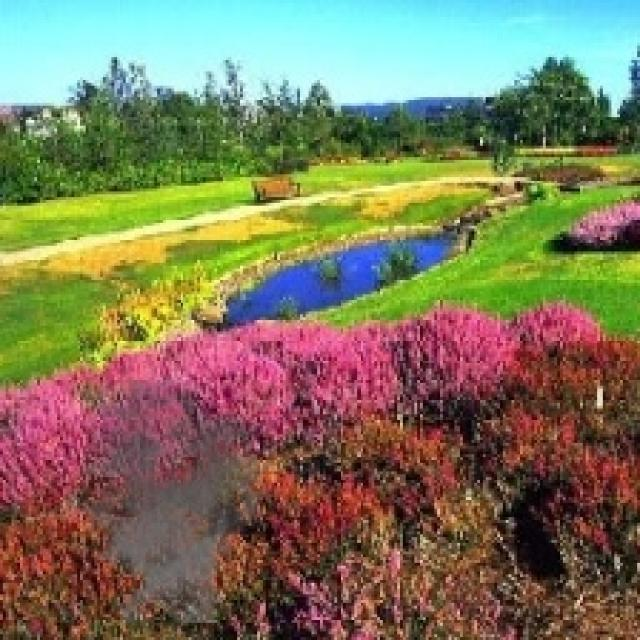Smoke: (59, 374, 274, 623)
